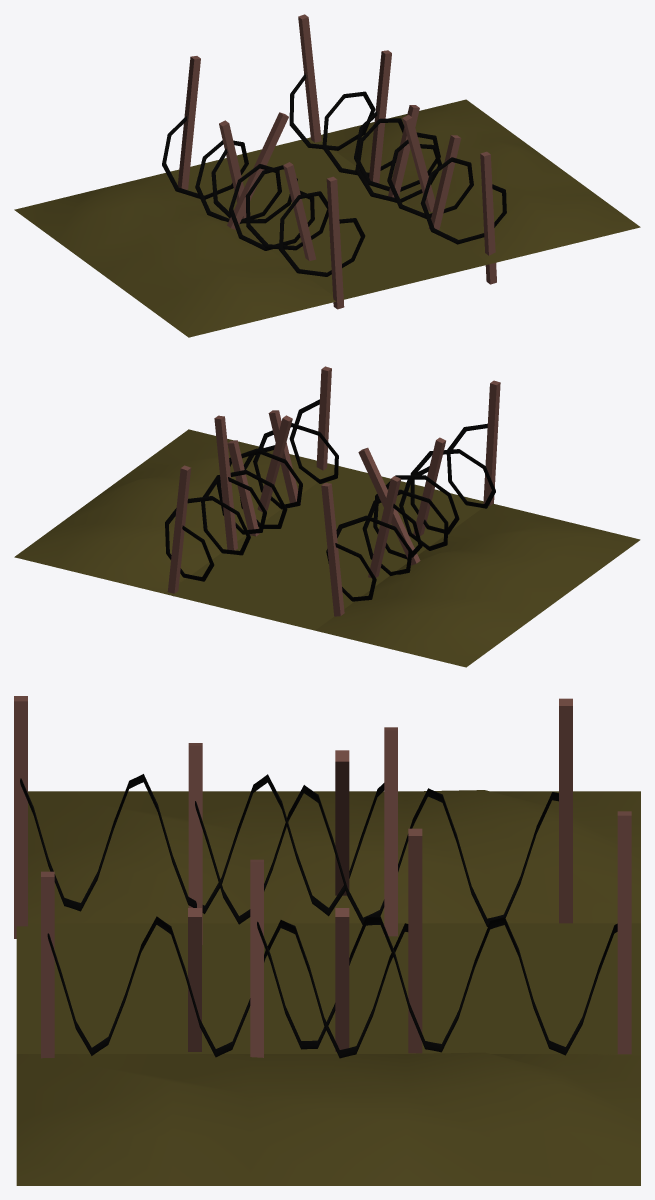
File: sm_mur.fbx
3 views of the same model, one above another, from view 1: azimuth 30°, elevation 25°; view 2: azimuth 150°, elevation 25°; view 3: azimuth 270°, elevation 25° (orthographic). The views are drawn at different scales.
Parts seen in each view (by area): view 1: Plane.001, Plane.003, Plane, Circle.002, Circle.003, Circle.001, Circle, Cube.001, Cube.007, Cube.009, Cube.004, Cube.010 (+6 smaller); view 2: Plane.001, Plane.003, Plane, Circle.002, Circle.003, Circle.001, Circle, Cube.001, Cube.009, Cube.004, Cube.007, Cube (+6 smaller); view 3: Plane.003, Plane, Plane.001, Cube.004, Circle.002, Circle, Circle.003, Cube.009, Cube.007, Cube.001, Circle.001, Cube.006 (+6 smaller).
Boxes of the visible parts, box(x1,y1,x2,y2) form: Plane.001: box(14, 173, 335, 337); Plane.003: box(321, 99, 640, 263); Plane: box(166, 137, 489, 299); Circle.002: box(211, 148, 365, 276); Circle.003: box(354, 111, 506, 244); Circle.001: box(162, 116, 314, 250); Circle: box(289, 73, 441, 202); Cube.001: box(177, 56, 200, 189); Cube.007: box(326, 176, 344, 309); Cube.009: box(369, 50, 391, 183); Cube.004: box(298, 14, 321, 142); Cube.010: box(480, 151, 496, 284); Plane.001: box(315, 503, 640, 667); Plane.003: box(14, 429, 339, 593); Plane: box(164, 466, 483, 630); Circle.002: box(373, 423, 495, 559); Circle.003: box(216, 399, 338, 534); Circle.001: box(326, 466, 448, 601); Circle: box(165, 445, 287, 581); Cube.001: box(321, 483, 344, 616); Cube.009: box(214, 415, 237, 550); Cube.004: box(167, 465, 191, 596); Cube.007: box(483, 380, 500, 505); Cube: box(358, 447, 420, 565); Plane.003: box(16, 1052, 640, 1185); Plane: box(16, 923, 640, 1055); Plane.001: box(28, 790, 640, 923); Cube.004: box(617, 811, 631, 1054); Circle.002: box(20, 774, 384, 916); Circle: box(257, 916, 617, 1055); Circle.003: box(47, 916, 408, 1058); Cube.009: box(408, 828, 422, 1053); Cube.007: box(14, 696, 27, 938); Cube.001: box(559, 698, 572, 923); Circle.001: box(195, 785, 558, 926); Cube.006: box(384, 727, 397, 936).
Bounding box in the file's own units: 299 × 106 × 201.
